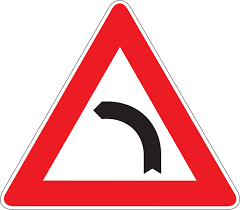Bend_to_left: (1, 1, 240, 209)
